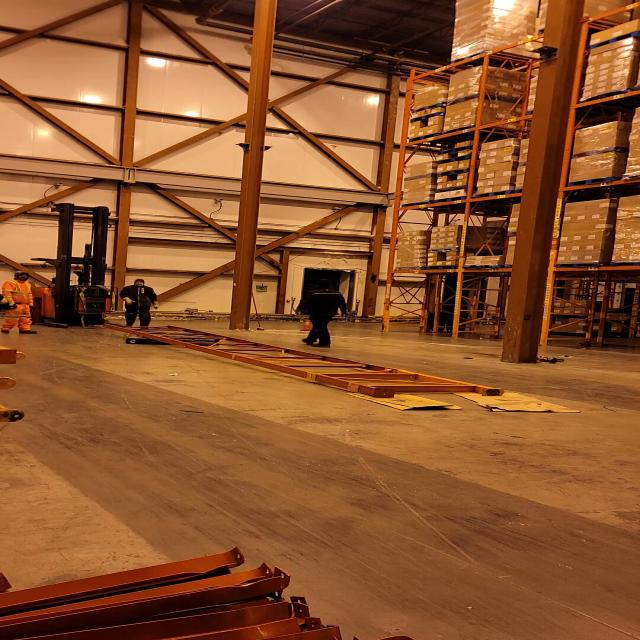forklift: (27, 206, 133, 330)
human: (287, 286, 351, 349), (0, 269, 42, 336), (117, 278, 162, 330)
objectofinterest: (94, 322, 504, 398), (445, 383, 582, 416), (342, 388, 467, 412), (120, 333, 170, 348)
